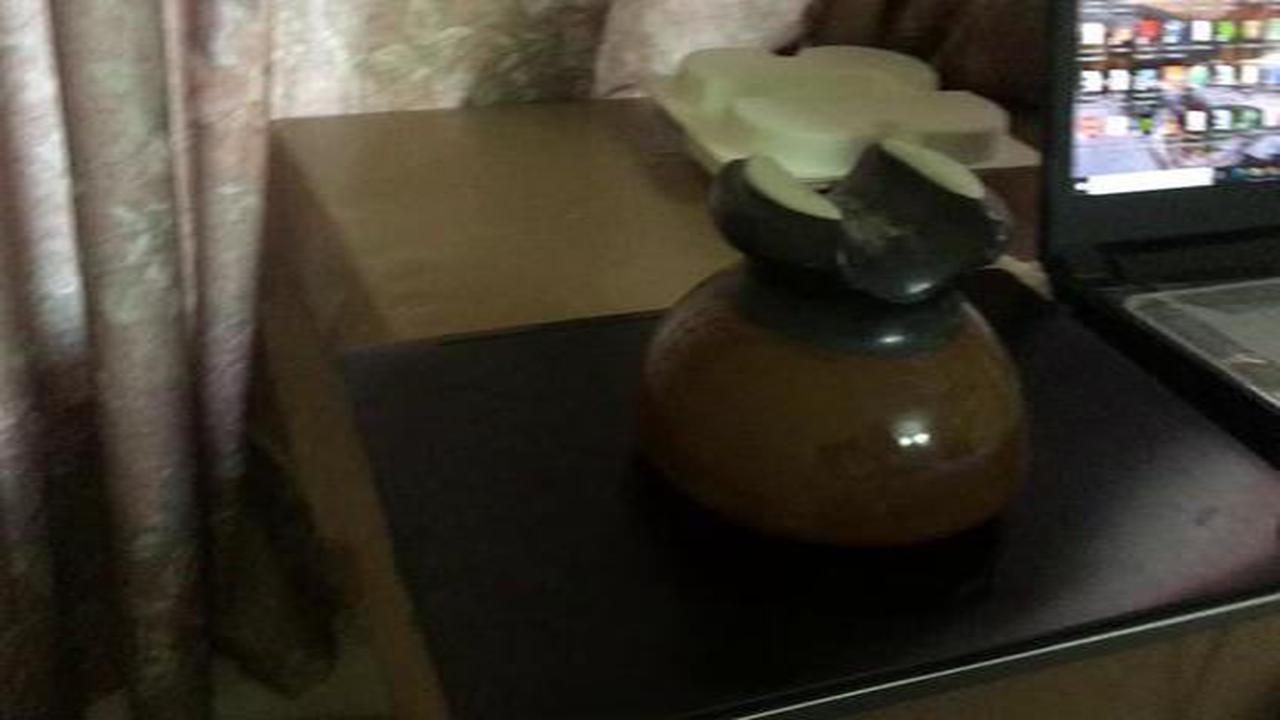insulator_pin: (610, 122, 1074, 566)
